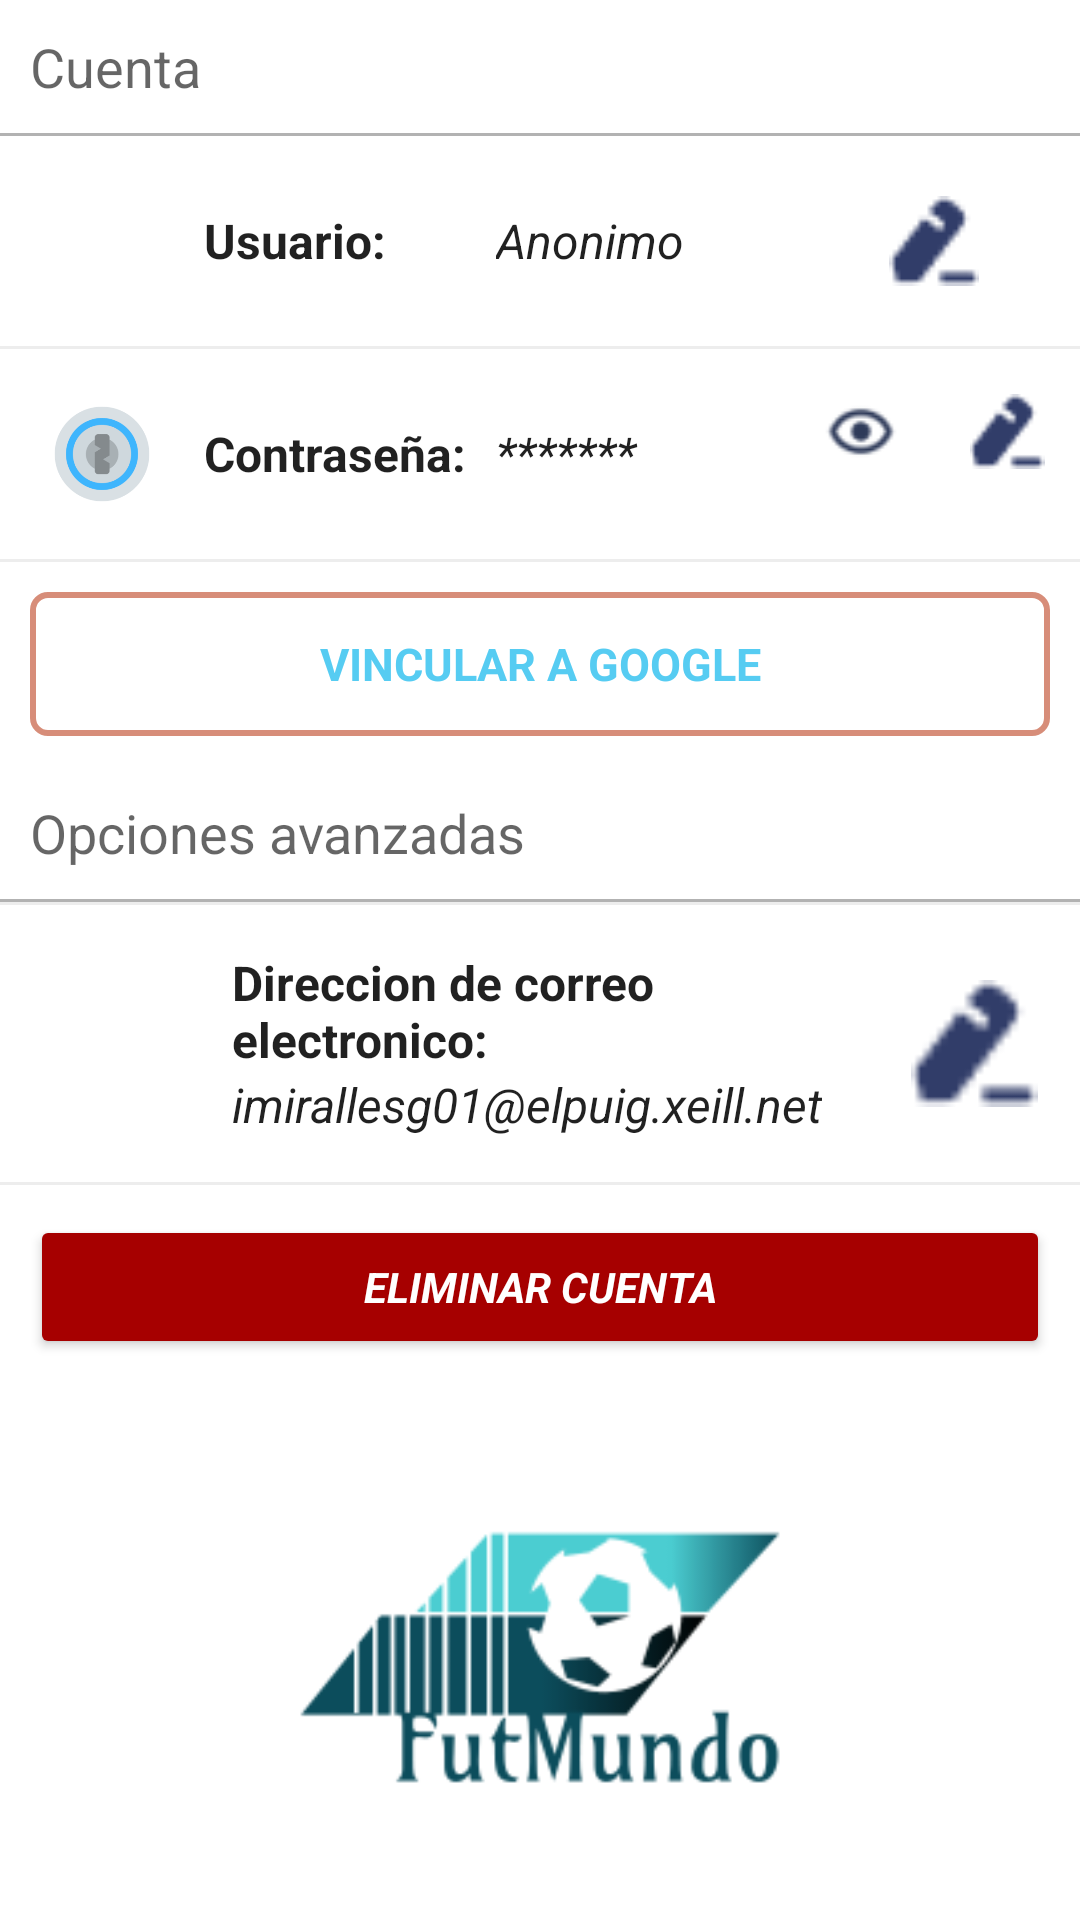

Icons on this 1080 × 1920 Android screen, each with the point to tap as point (x, y):
configuracion editar: point (934, 241), point (1007, 431), point (974, 1043)
configuracion mostrar password: point (861, 431)
